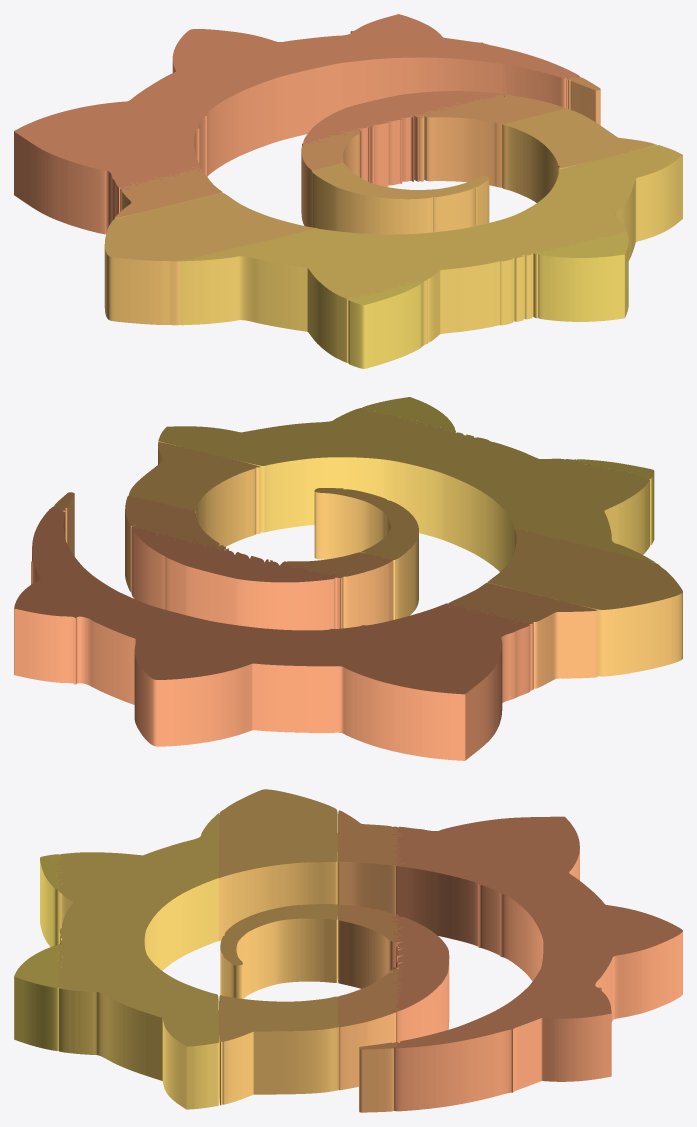
Rendered from grafana-draco.glb.
The picture shows the model from 3 angles, top to bottom: view 1: azimuth 30°, elevation 25°; view 2: azimuth 150°, elevation 25°; view 3: azimuth 270°, elevation 25°; orthographic projection. The views are drawn at different scales.
Parts seen in each view (by area): view 1: Node1, Node3, Node4, Node6, Node8, Node2, Node5, Node14, Node15, Node7, Node9, Node10; view 2: Node1, Node3, Node4, Node2, Node5, Node6, Node7, Node9, Node8, Node14, Node15, Node10; view 3: Node1, Node3, Node4, Node5, Node6, Node2, Node7, Node8, Node9, Node14, Node10, Node15.
Boxes of the visible parts, bbox=[...] form: Node1: bbox=[14, 14, 580, 234]; Node3: bbox=[181, 145, 682, 362]; Node4: bbox=[104, 193, 317, 325]; Node6: bbox=[311, 163, 489, 234]; Node8: bbox=[413, 94, 564, 187]; Node2: bbox=[302, 91, 504, 186]; Node5: bbox=[502, 108, 656, 202]; Node14: bbox=[535, 231, 628, 321]; Node15: bbox=[348, 281, 421, 368]; Node7: bbox=[114, 167, 222, 218]; Node9: bbox=[301, 129, 360, 227]; Node10: bbox=[568, 77, 600, 125]; Node1: bbox=[14, 506, 533, 760]; Node3: bbox=[158, 408, 655, 571]; Node4: bbox=[487, 528, 682, 676]; Node2: bbox=[131, 525, 340, 630]; Node5: bbox=[128, 442, 260, 546]; Node6: bbox=[314, 488, 418, 619]; Node7: bbox=[447, 582, 597, 688]; Node9: bbox=[283, 552, 393, 628]; Node8: bbox=[125, 496, 223, 592]; Node14: bbox=[361, 397, 454, 431]; Node15: bbox=[574, 459, 654, 545]; Node10: bbox=[54, 492, 74, 555]; Node1: bbox=[388, 816, 682, 1111]; Node3: bbox=[56, 813, 219, 1109]; Node4: bbox=[218, 789, 337, 941]; Node5: bbox=[218, 995, 338, 1105]; Node6: bbox=[220, 904, 337, 998]; Node2: bbox=[390, 915, 449, 1042]; Node7: bbox=[337, 810, 402, 914]; Node8: bbox=[336, 969, 403, 1090]; Node9: bbox=[338, 905, 402, 988]; Node14: bbox=[14, 945, 62, 1050]; Node10: bbox=[359, 1042, 397, 1112]; Node15: bbox=[40, 854, 62, 946].
Size of what is drawn, in the model's own units: 88.49 by 10 by 96.15.
